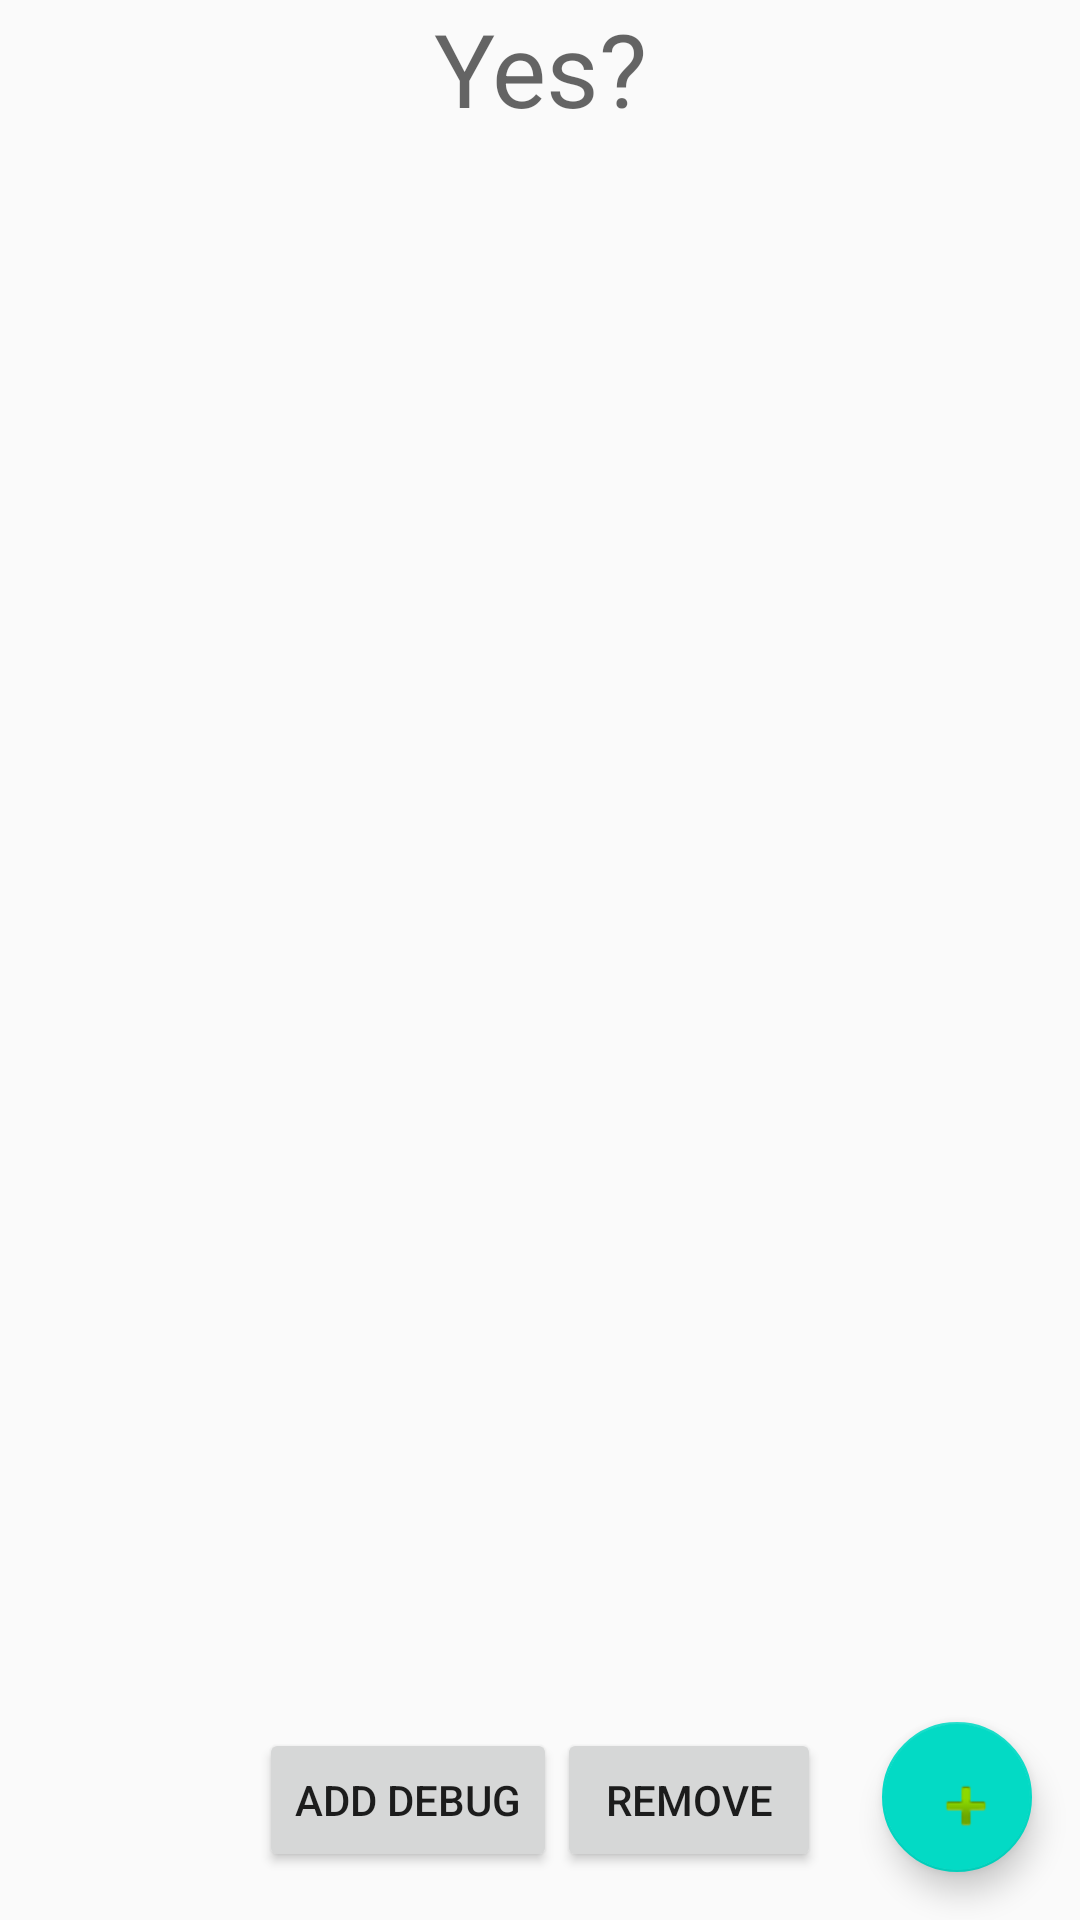

Icon click points for this 1080w x 1920h phone screenshot, format point (x, y):
add: point (957, 1797)
